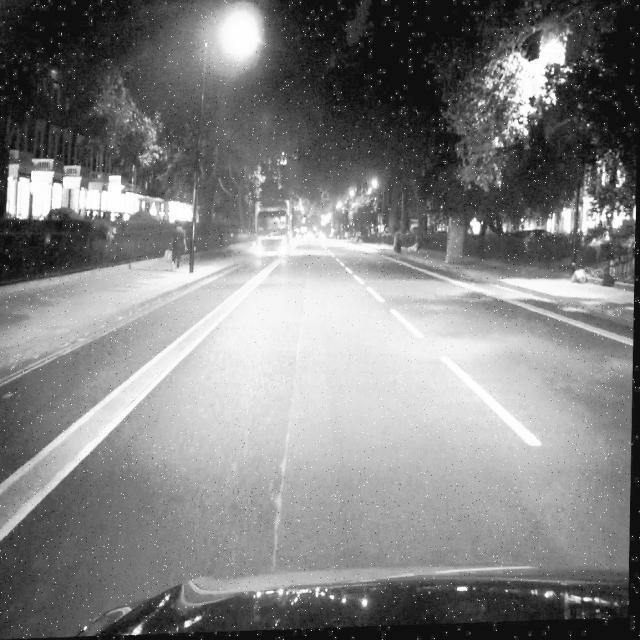Truck: (253, 200, 293, 262)
